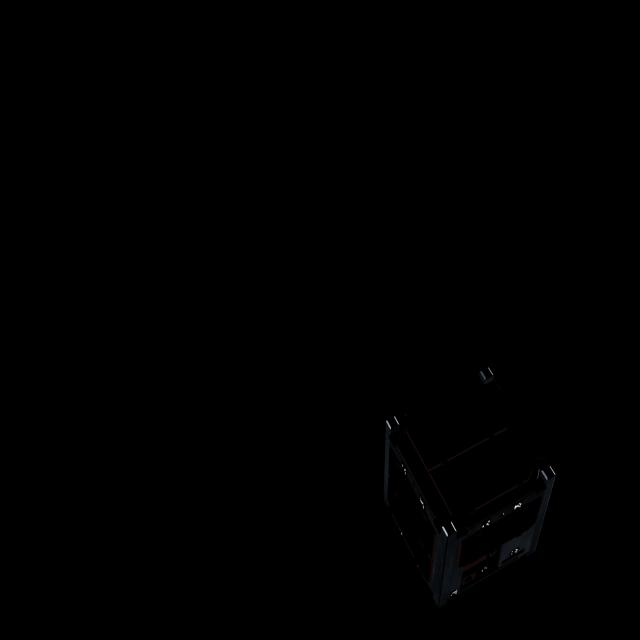medium_debris: (374, 355, 565, 614)
